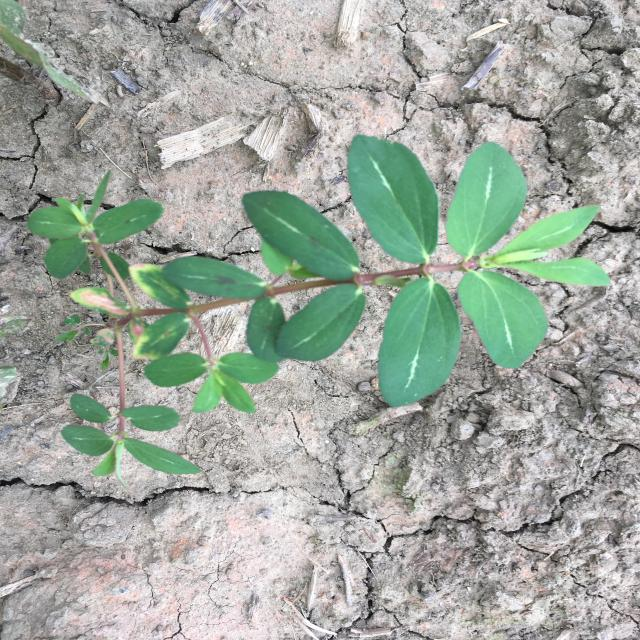SpottedSpurge: (26, 134, 612, 489)
